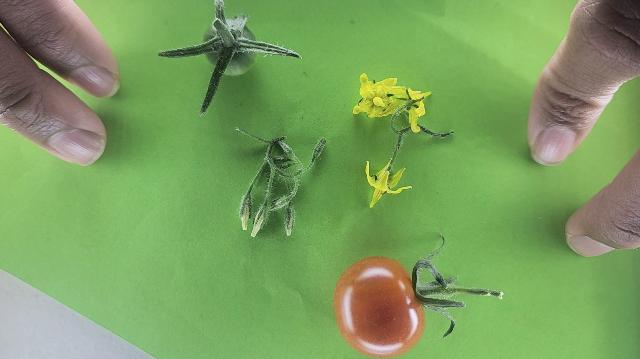Anthesis: (352, 74, 407, 119), (365, 158, 410, 210), (394, 84, 433, 131)
Flower Bud: (239, 195, 252, 231), (285, 210, 294, 236), (254, 214, 264, 233), (251, 224, 260, 238), (242, 215, 248, 231), (286, 228, 292, 237)
Fruit Maturation: (202, 16, 257, 76)
Fully Grown: (332, 255, 425, 359)
